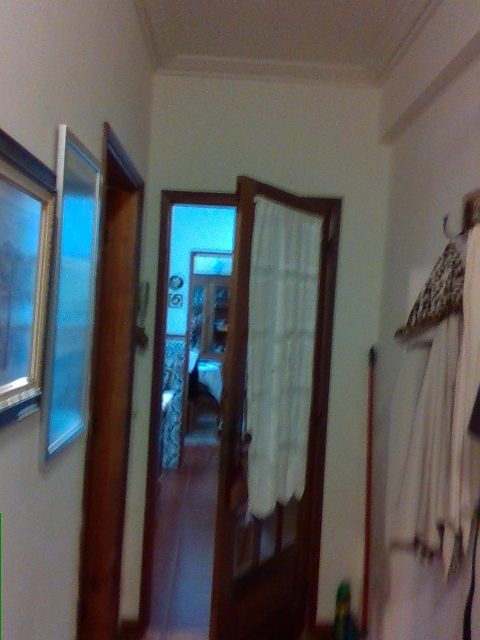semi: (75, 123, 146, 636)
